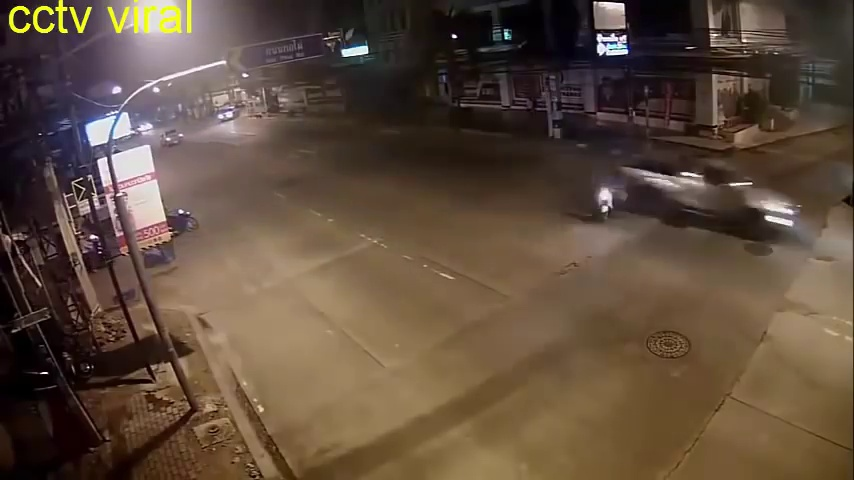car: (623, 148, 794, 247), (159, 130, 180, 147), (217, 107, 237, 122)
motorbike: (587, 173, 623, 220)
